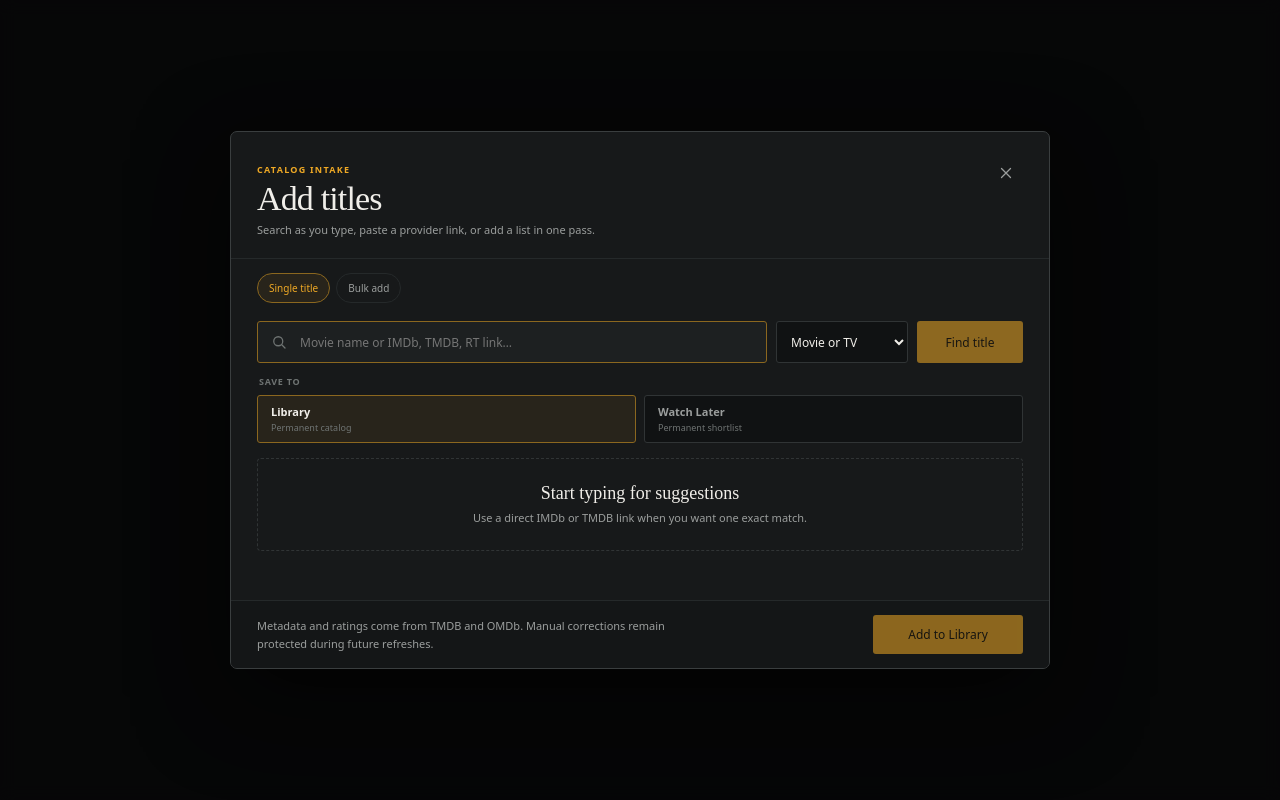
it: AddTitleDialog › shows suggestions after the user pauses typing
The image size is (1280, 800).
Type "Perfect Days" into the field named "Movie name or link" at (512, 342), box [257,321,767,363]
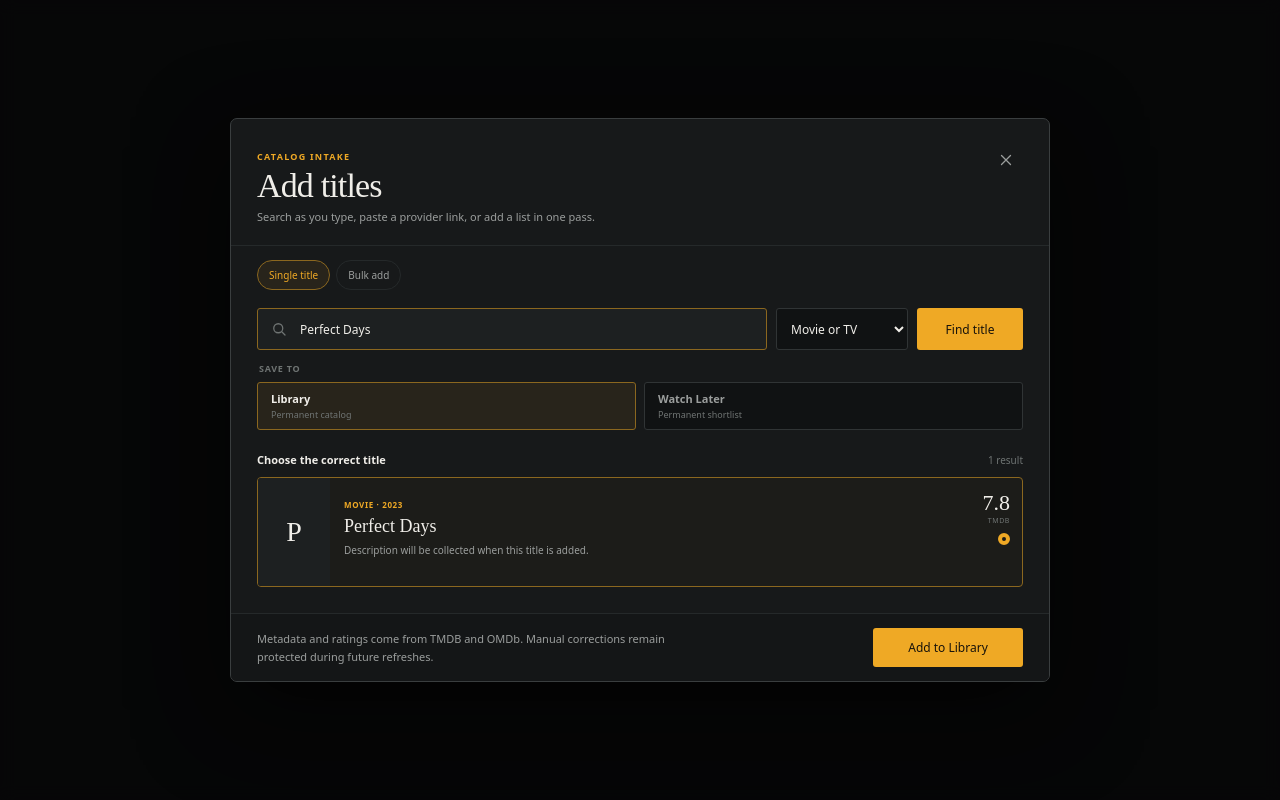
Now the text "Perfect Days" is shown, box [344,516,436,536]
